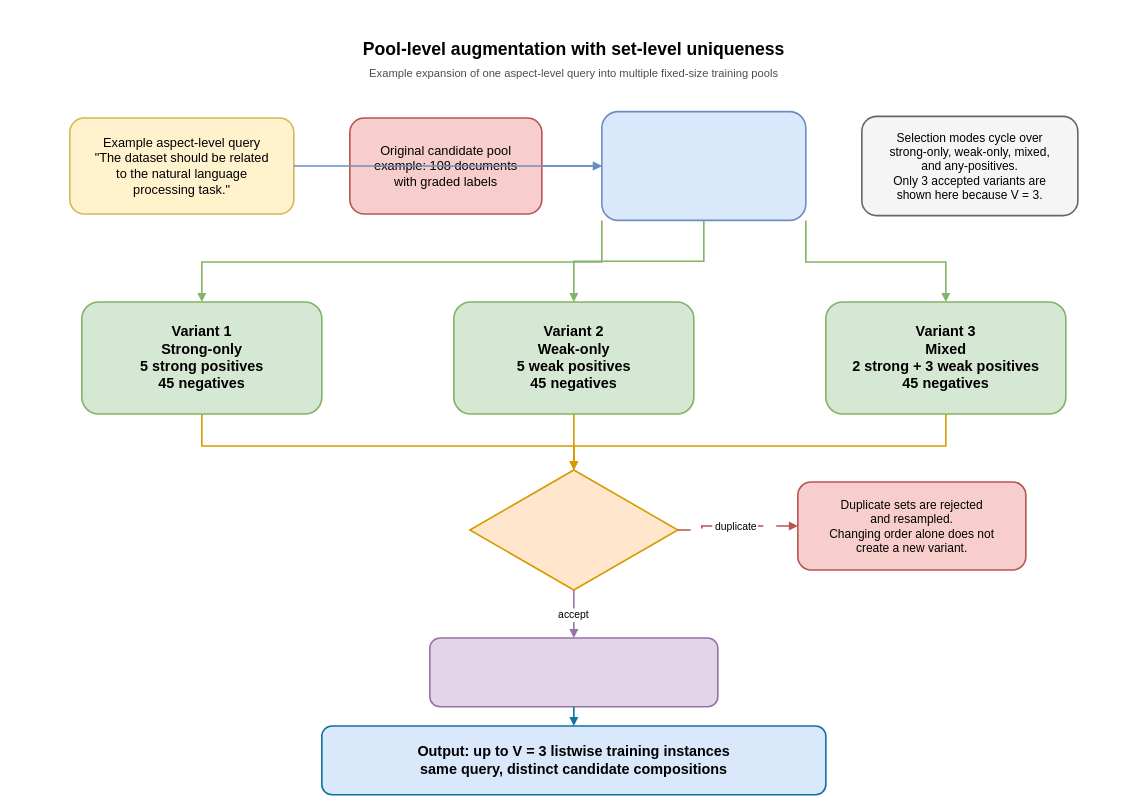
This 1147x809 diagram has some shape labels left out. The centre of each missing label's shape, as x and y in pixels:
"Sampling setup up to V = 3 accepted variants K = 50 max positives = 5" belongs at point 703,165.
"Set-level uniqueness check" belongs at point 573,529.
"Shuffle accepted pools before prompt formatting" belongs at point 573,672.
